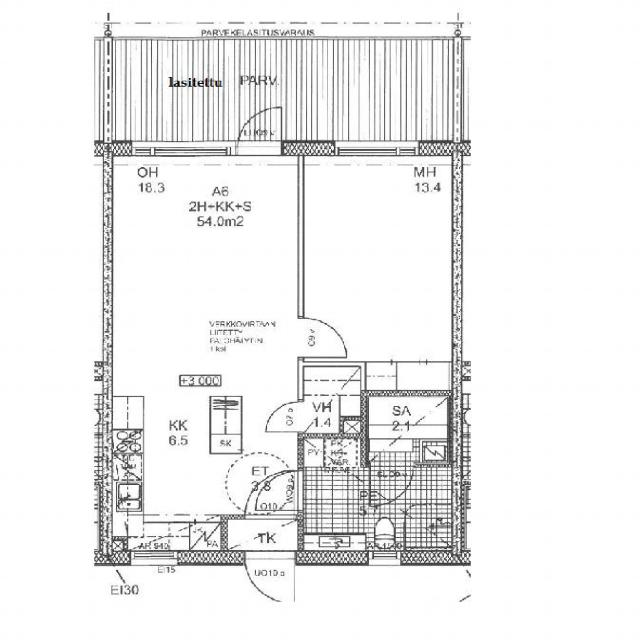door: (244, 550, 294, 610), (237, 101, 281, 156), (245, 471, 293, 519), (370, 462, 414, 508), (254, 470, 302, 510), (298, 318, 346, 358), (265, 402, 303, 432)
